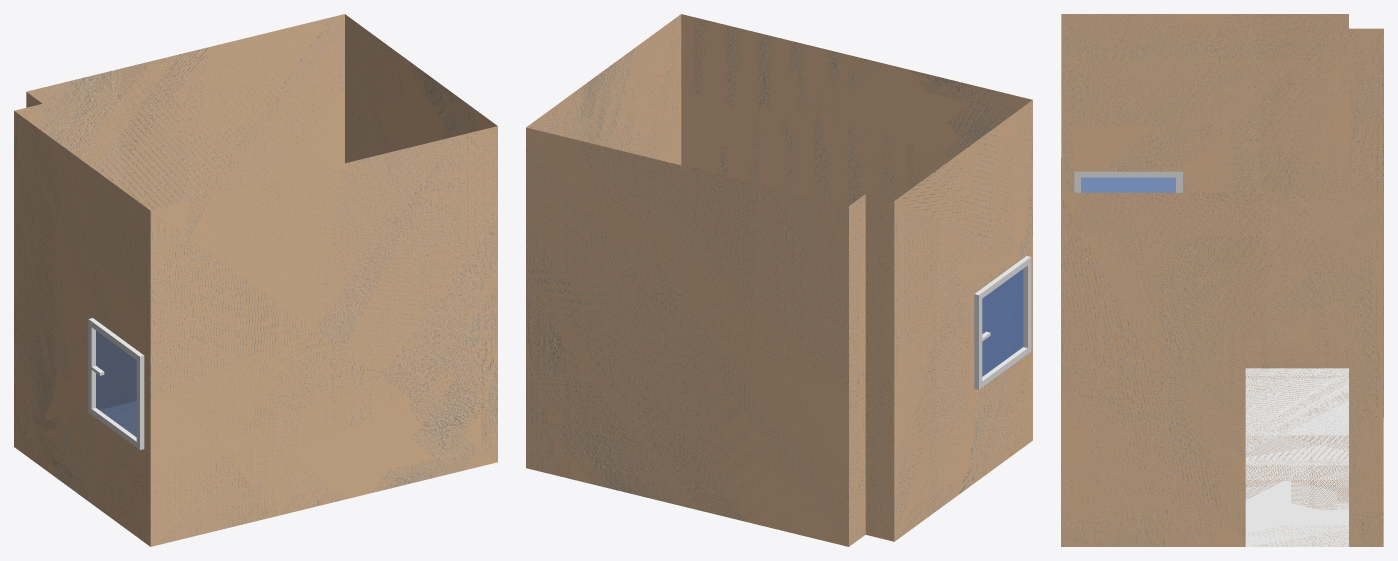
Rendered from DES013.obj.
3 views of the same model, side by side, from view 1: azimuth 30°, elevation 25°; view 2: azimuth 150°, elevation 25°; view 3: azimuth 270°, elevation 25° (orthographic). The views are drawn at different scales.
Parts seen in each view (by area): view 1: Mesh4 DES013 Model, Mesh1 ventana3_1_1 DES013 Model; view 2: Mesh4 DES013 Model, Mesh1 ventana3_1_1 DES013 Model; view 3: Mesh4 DES013 Model, Mesh1 ventana3_1_1 DES013 Model.
Part boxes in pixels (left/top/right/bottom): Mesh4 DES013 Model: left=14, top=14, right=497, bottom=546; Mesh1 ventana3_1_1 DES013 Model: left=88, top=318, right=144, bottom=449; Mesh4 DES013 Model: left=526, top=14, right=1032, bottom=546; Mesh1 ventana3_1_1 DES013 Model: left=974, top=256, right=1031, bottom=389; Mesh4 DES013 Model: left=1061, top=14, right=1383, bottom=546; Mesh1 ventana3_1_1 DES013 Model: left=1074, top=171, right=1182, bottom=192.
Bounding box in the file's own units: 3.94 × 3.6 × 2.97.
6 materials, 2 textured.
